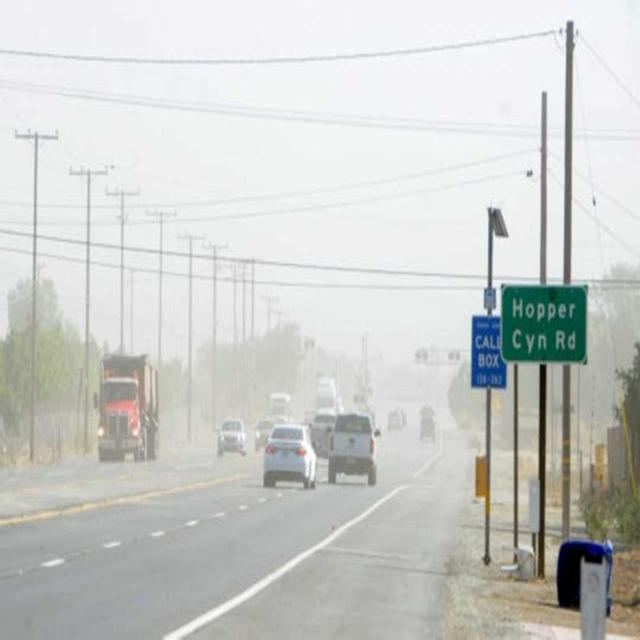bus: (96, 352, 158, 463), (268, 393, 294, 432), (313, 377, 335, 417), (418, 405, 436, 442)
car: (327, 412, 377, 486), (263, 427, 318, 490), (216, 418, 247, 456), (310, 414, 334, 460), (254, 421, 274, 451), (386, 411, 404, 434)
